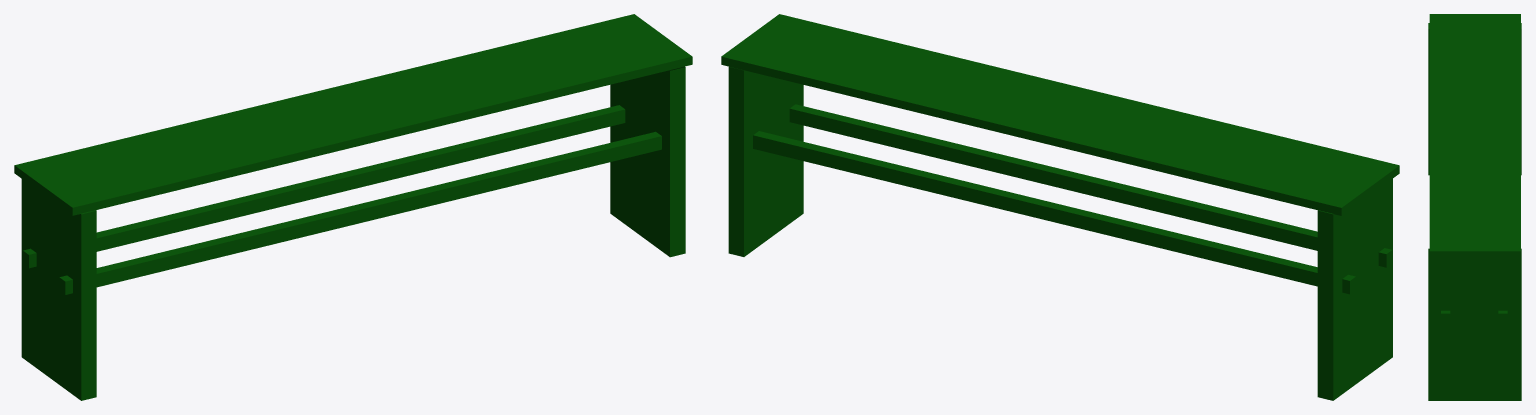
Rendered from Structure09.FBX.
The picture shows the model from 3 angles, left to right: view 1: azimuth 30°, elevation 25°; view 2: azimuth 150°, elevation 25°; view 3: azimuth 270°, elevation 25°; orthographic projection. The views are drawn at different scales.
Parts seen in each view (by area): view 1: SM_structure09_0; view 2: SM_structure09_0; view 3: SM_structure09_0.
Part boxes in pixels (x1,y1,x2,y2): SM_structure09_0: (14, 14, 692, 400); SM_structure09_0: (721, 14, 1399, 400); SM_structure09_0: (1428, 14, 1521, 400).
Bounding box in the file's own units: 240 × 40 × 71.91.
